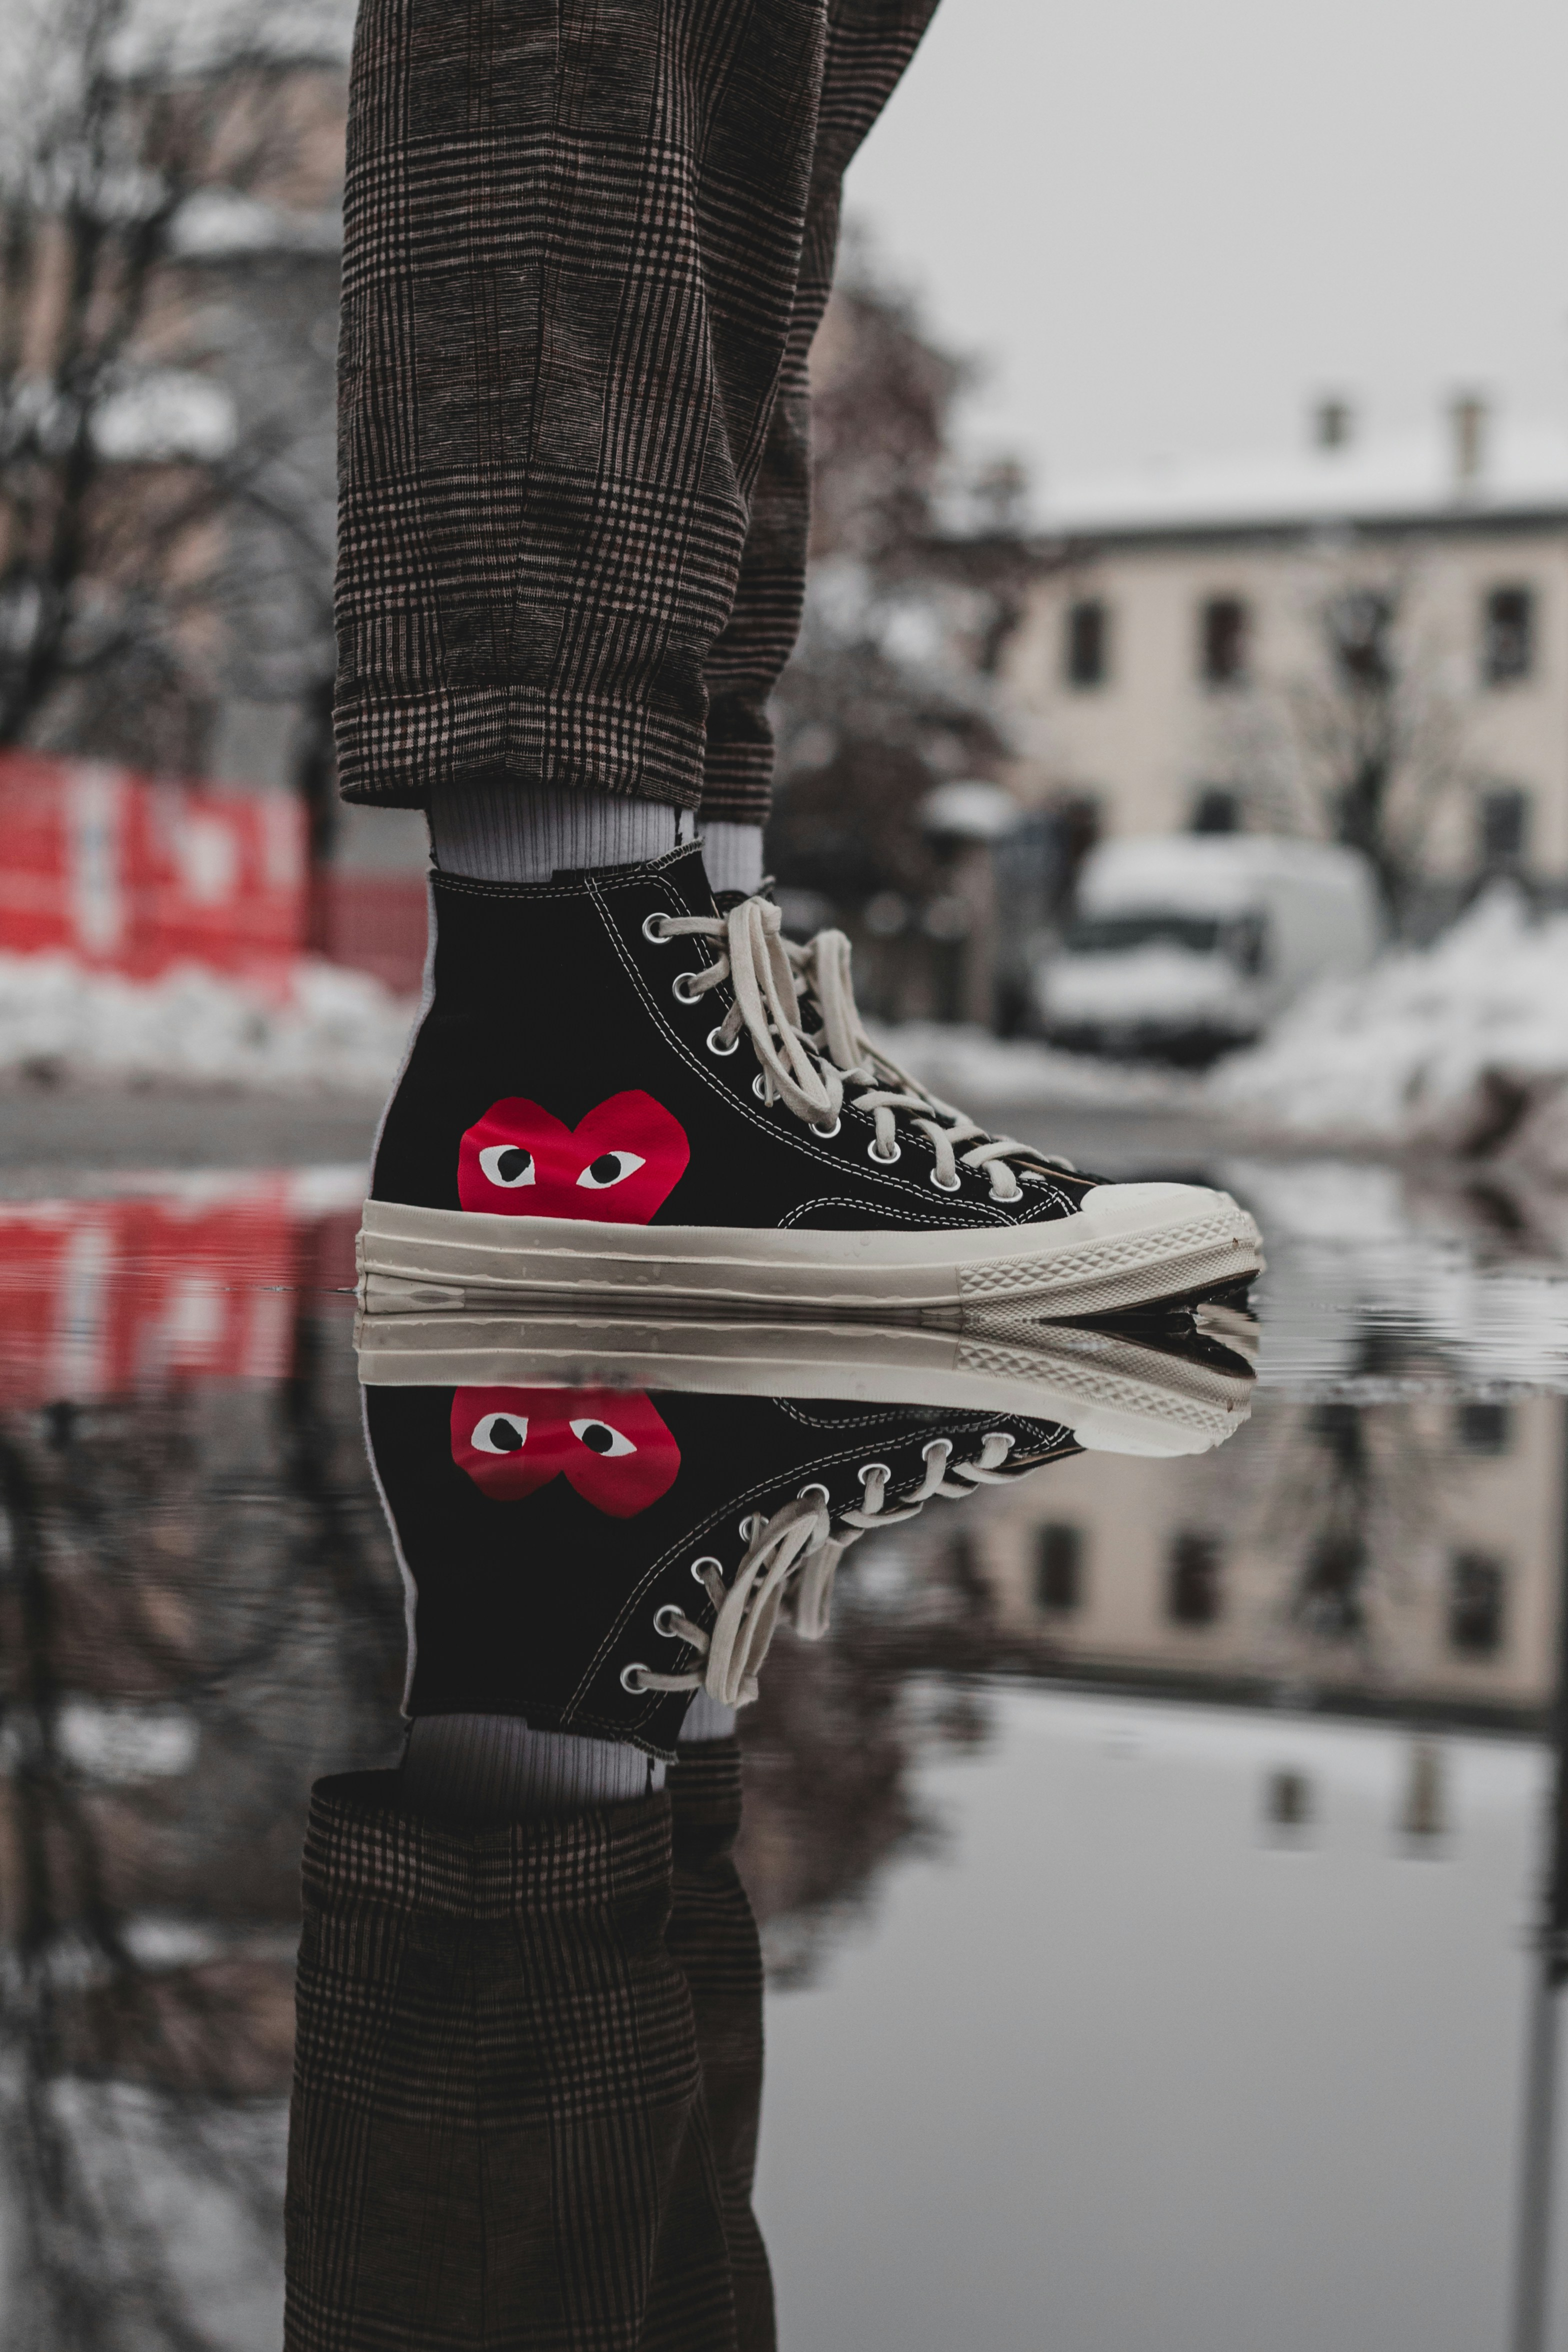Footwear: (374, 840, 1270, 1314)
